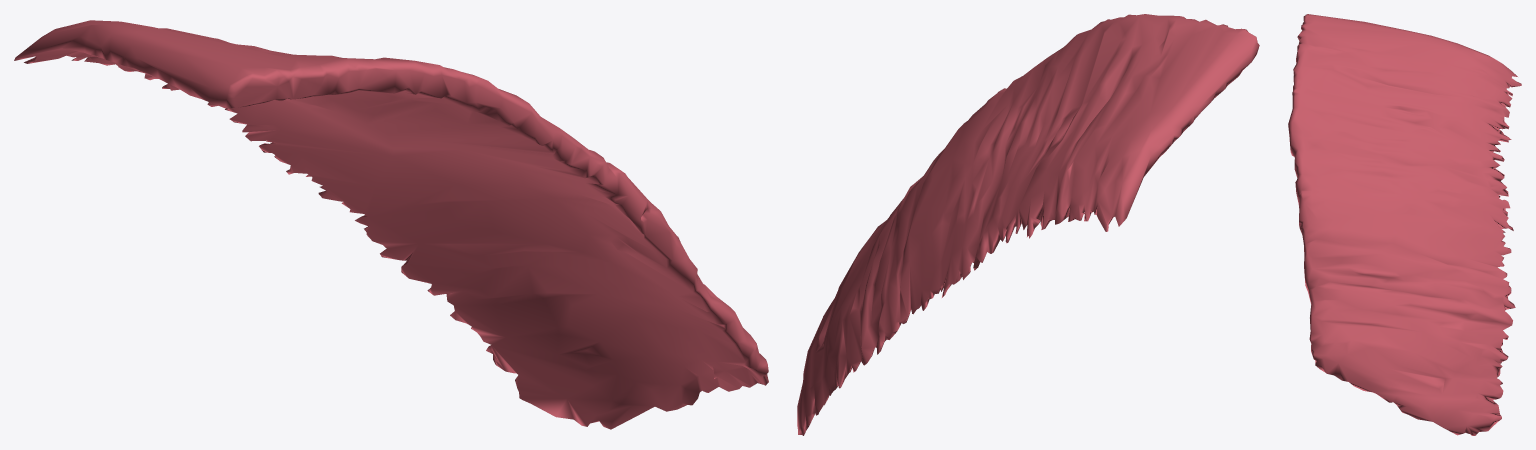
The picture shows the model from 3 angles, left to right: view 1: azimuth 30°, elevation 25°; view 2: azimuth 150°, elevation 25°; view 3: azimuth 270°, elevation 25°; orthographic projection. The views are drawn at different scales.
Parts seen in each view (by area): view 1: 左侧枕肌; view 2: 左侧枕肌; view 3: 左侧枕肌.
Boxes of the visible parts, x1,y1,x2,y2 form: 左侧枕肌: [14, 20, 768, 429]; 左侧枕肌: [797, 14, 1259, 435]; 左侧枕肌: [1288, 14, 1521, 435].
Bounding box in the file's own units: 0.0686 × 0.0686 × 0.0487.
